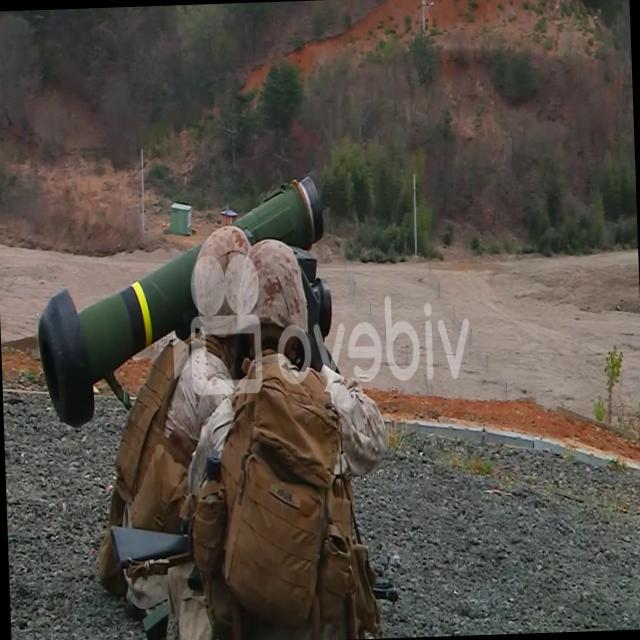rocket: (32, 165, 326, 425)
